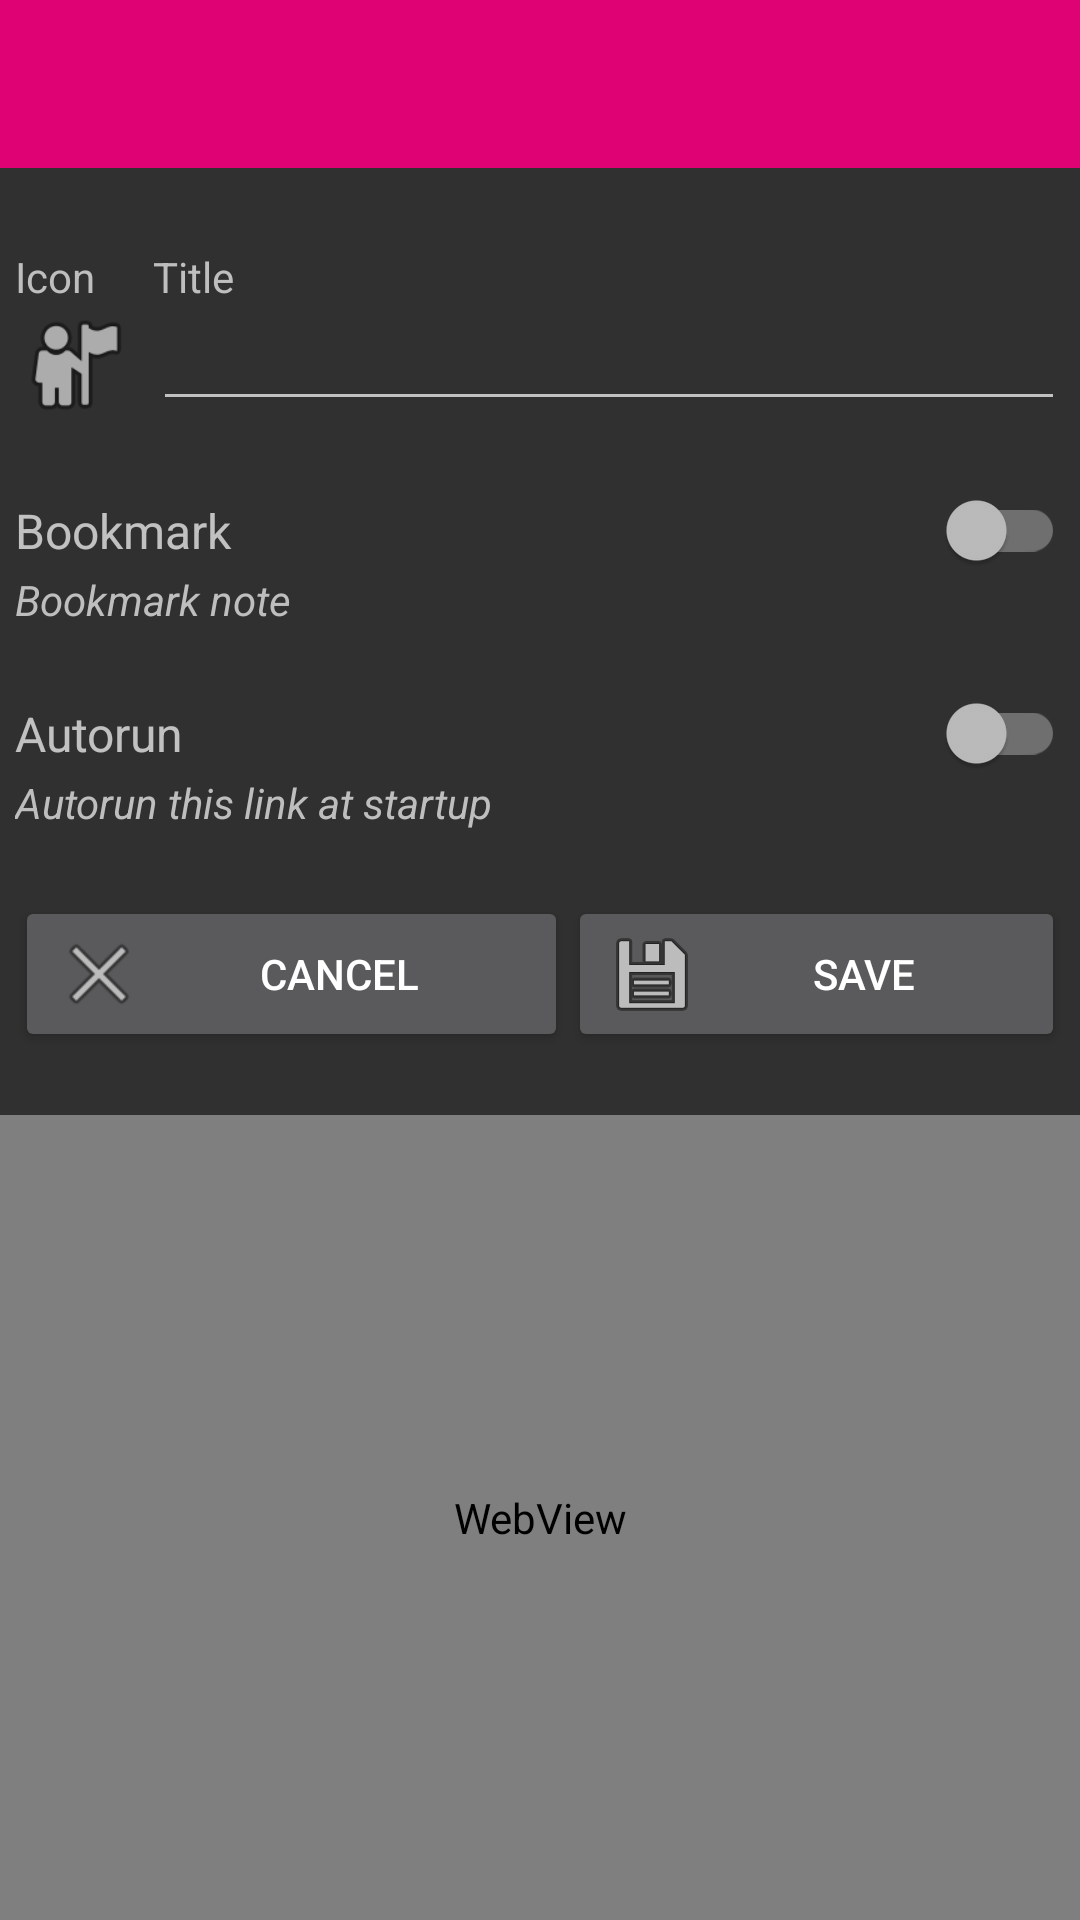

Icon bounding boxes for this 1080x1920 phone screenshot, format (x1, y1, x2, y2):
myplaces: (35, 324, 118, 406)
